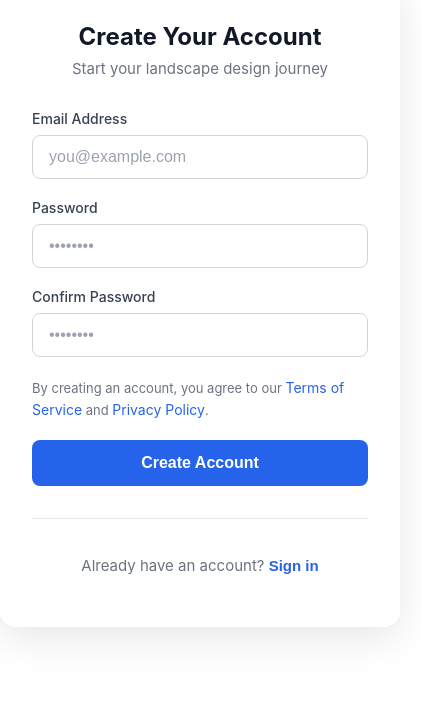
Test case: Validation Error Clearing › should clear email error when email is changed
Trigger validation error
Click the button "Create Account" at (200, 463), box top-left (32, 440), bottom-right (368, 486)
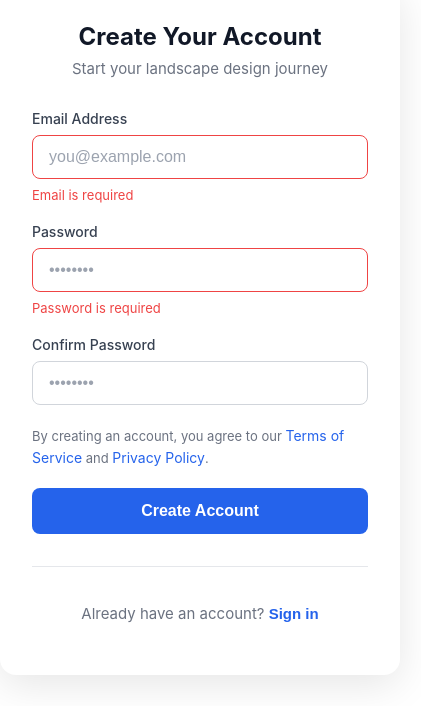
Expected: the text "Email is required" is shown, top-left (32, 187), bottom-right (133, 203)
Change email to clear error
Type "test@example.com" into the field labelled "Email Address" at (200, 157), box top-left (32, 135), bottom-right (368, 179)
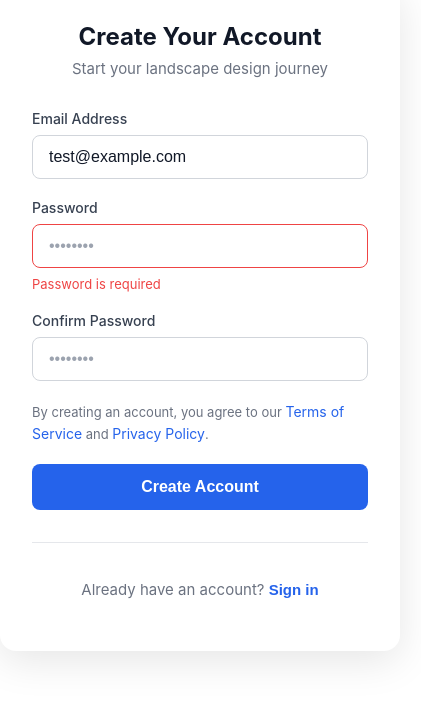
Expected: the text "Email is required" is gone
